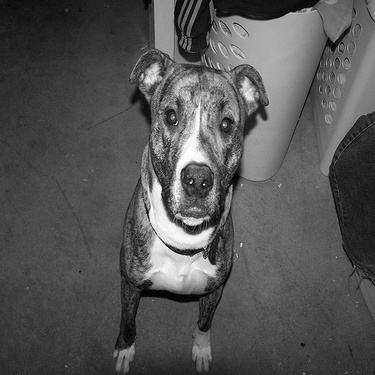dog: (106, 40, 270, 370)
